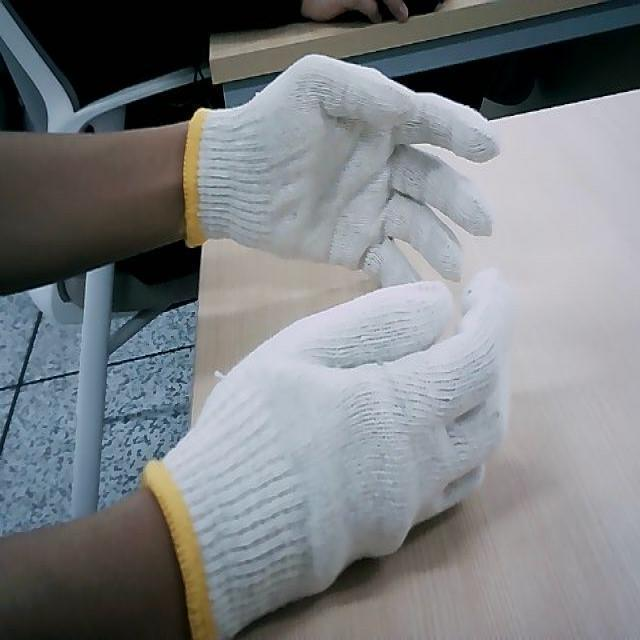Gloves: (78, 290, 587, 604), (166, 75, 476, 280)
